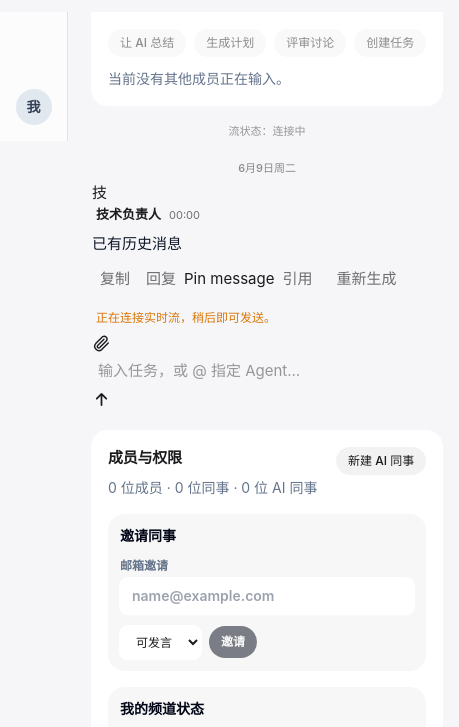
Test case: ChannelShell › keeps the channel composer editable but prevents sending while the realtime stream is connecting
(page scrolled)
Expected: the text "已有历史消息" is shown, x1=92 y1=234 x2=182 y2=253
Type "实时流连接后再发" into the text box named "消息内容" at (267, 372), box x1=92 y1=353 x2=442 y2=390
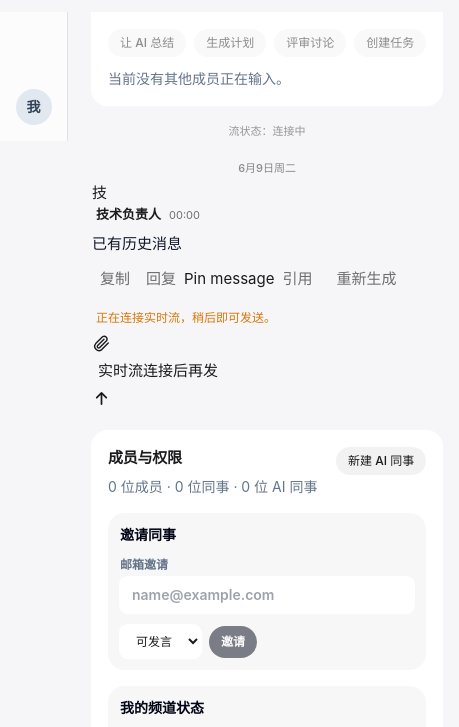
Expected: the text "正在连接实时流，稍后即可发送。" is shown, x1=96 y1=310 x2=276 y2=325
Click the button named "发送消息" at (102, 399), box x1=92 y1=389 x2=111 y2=408
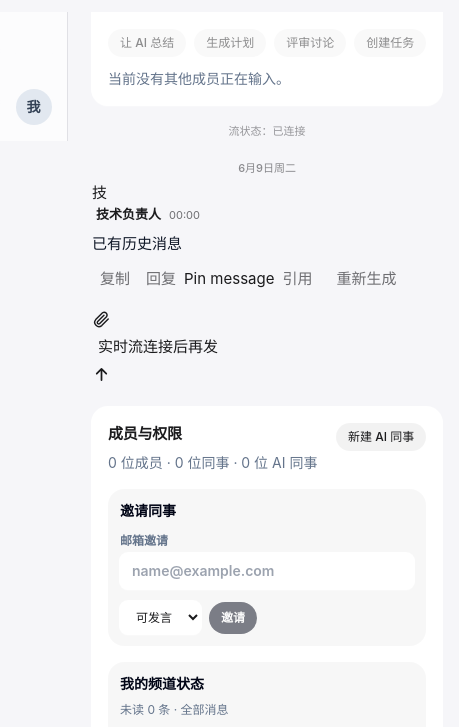
Now the button named "发送消息" is enabled, box x1=92 y1=365 x2=111 y2=384
